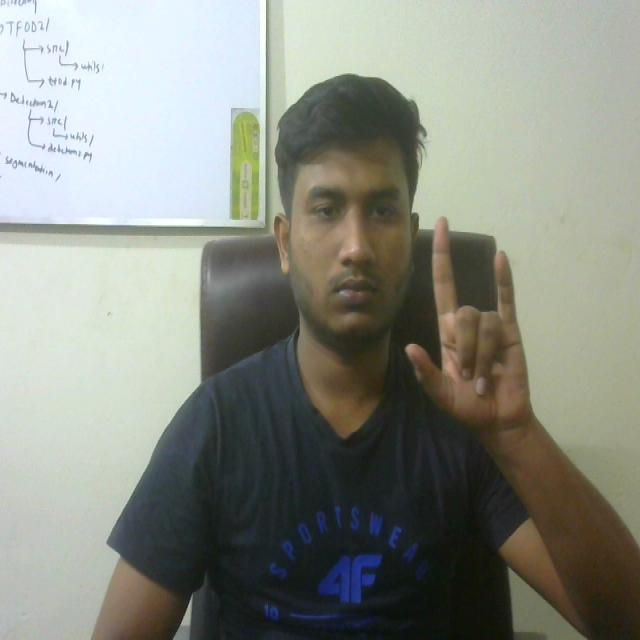I Love You: (394, 200, 553, 455)
